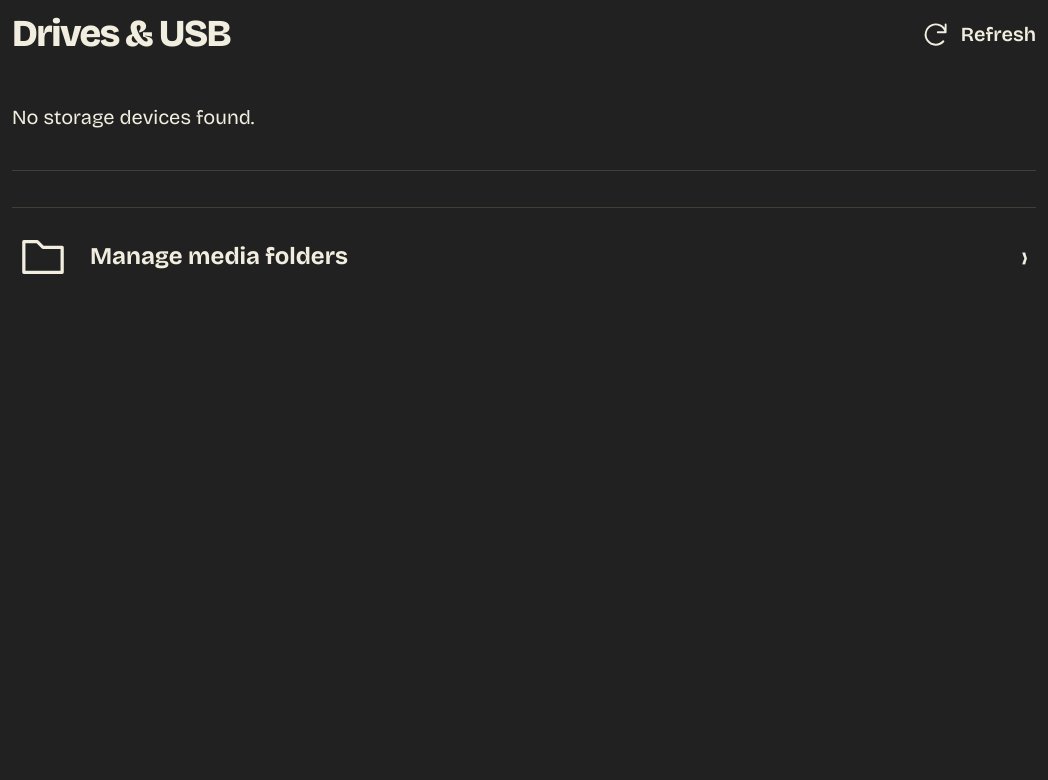
Test case: ignores a failed initial drive list after a successful manual refresh
The image size is (1048, 780).
Click the button "Refresh" at (979, 34), box [922,12,1036,56]
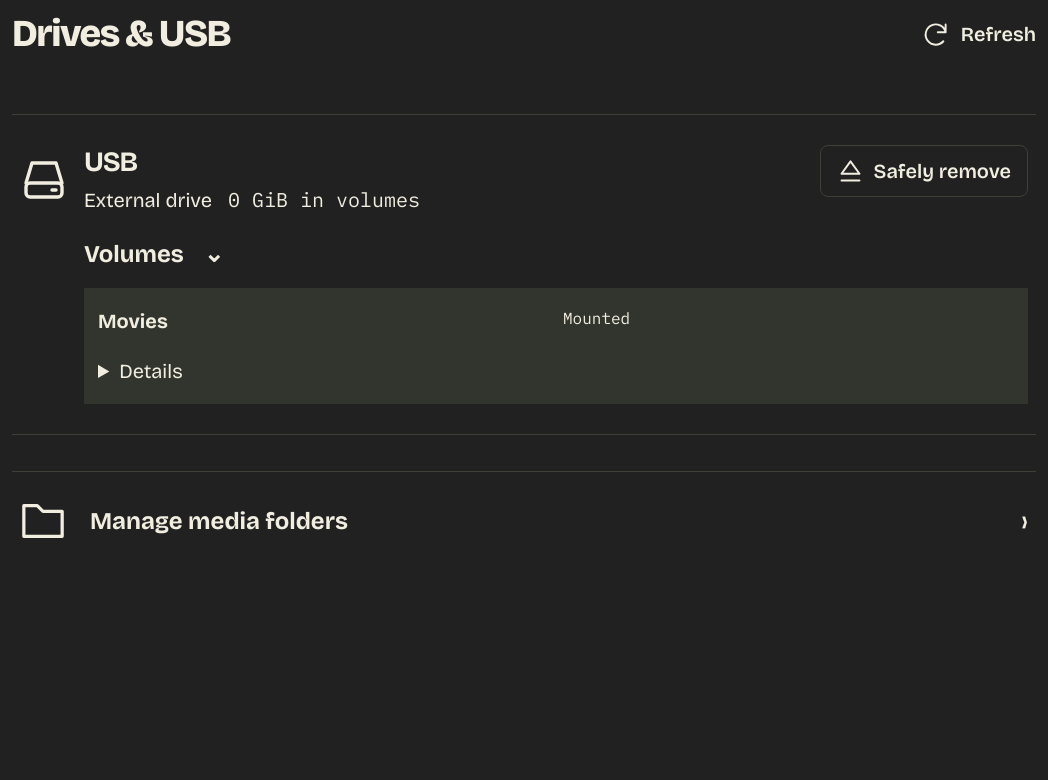
Expected: the button "Safely remove" is shown, [820,145,1028,197]
